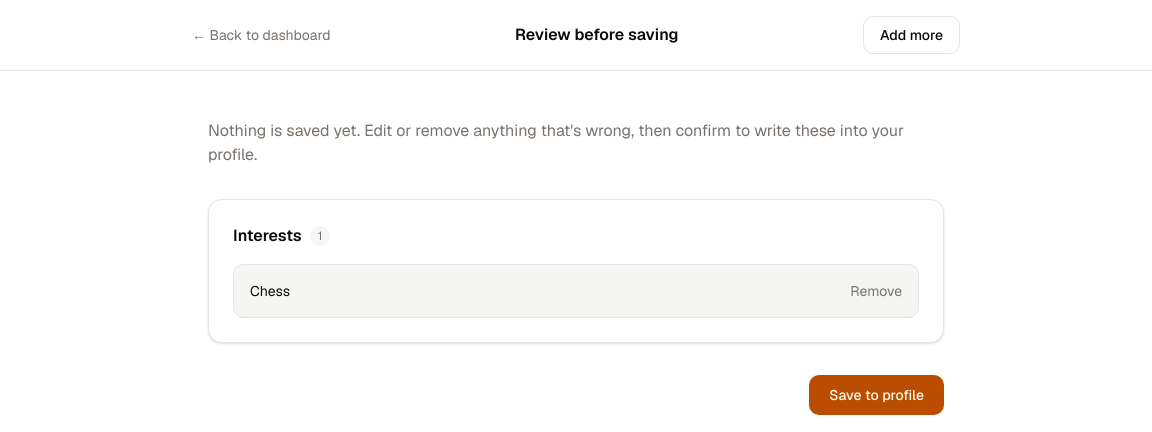
Scenario: OnboardingReviewPage › disables "Save to profile" once the last pending entry has been removed
The image size is (1152, 432).
Expected: the text "Chess" is shown, [250,282,290,300]
Click the button "Remove". click: [876, 291]
box: [850,281,902,301]
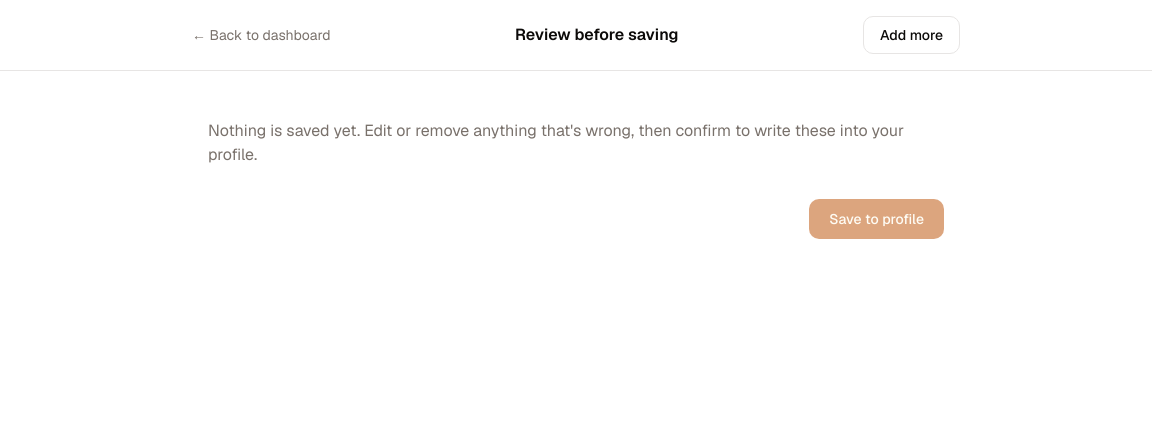
Now the button "Save to profile" is disabled, box [809,199,944,239]
